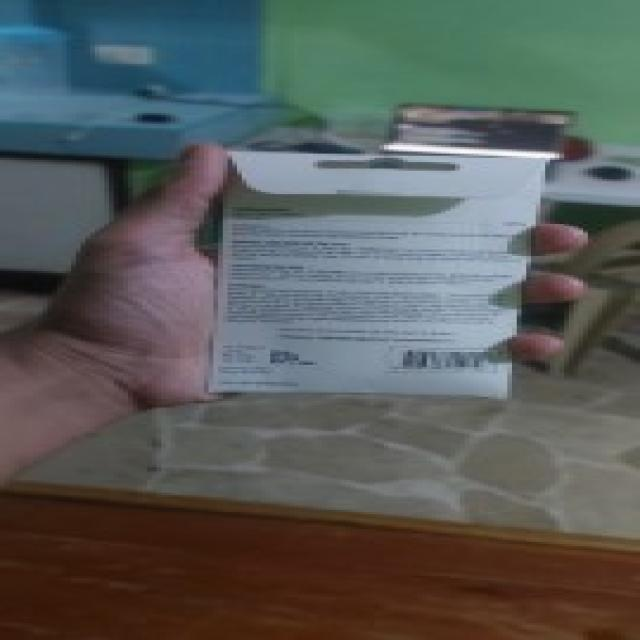Cacat: (218, 151, 545, 396)
